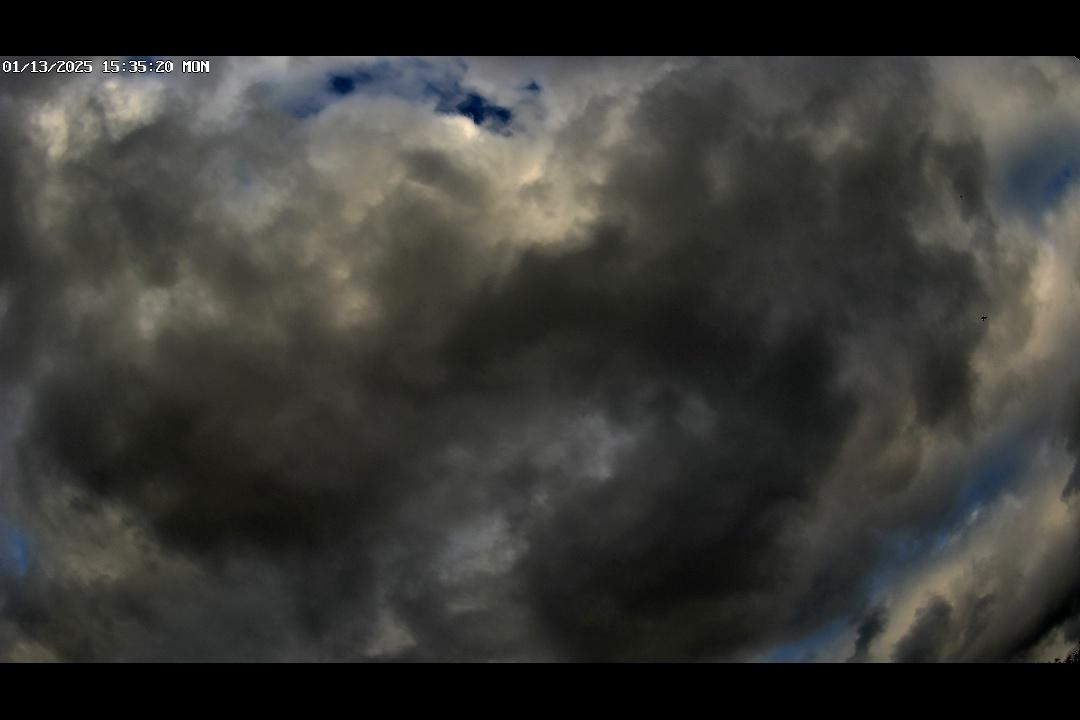WildLife: (971, 308, 989, 327)
